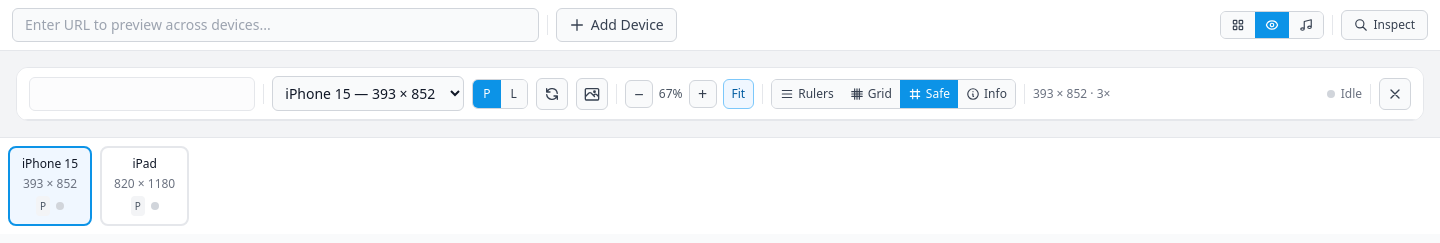
Test case: PreviewWorkspace (multi-device) › removing active entry in focus mode selects next entry
This screenshot has width=1440, height=243.
Expected: the button with aria-label "iPhone 15 preview (active)" is shown, x1=8 y1=146 x2=92 y2=226
// Remove the active entry (both instances stay mounted in focus mode)
Click the button named "Remove preview": (1395, 94) x1=1379 y1=78 x2=1411 y2=110
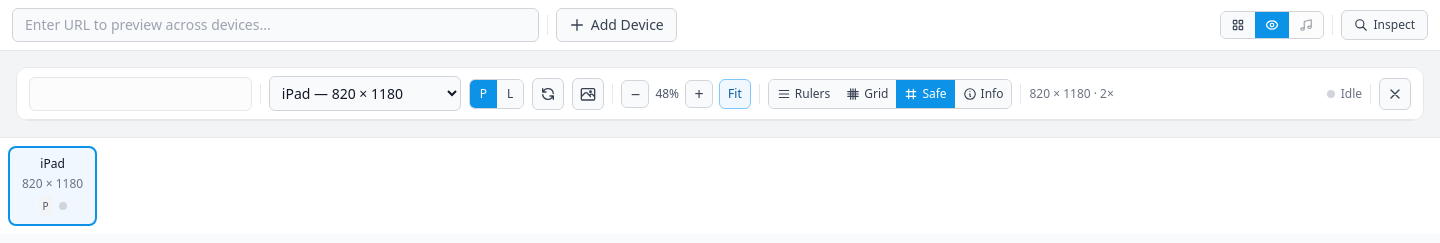
Now the button with aria-label "iPad preview (active)" is shown, box x1=8 y1=146 x2=97 y2=226
